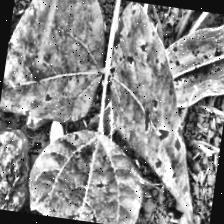ALS: (89, 0, 224, 224), (0, 0, 112, 121), (34, 126, 154, 224)
